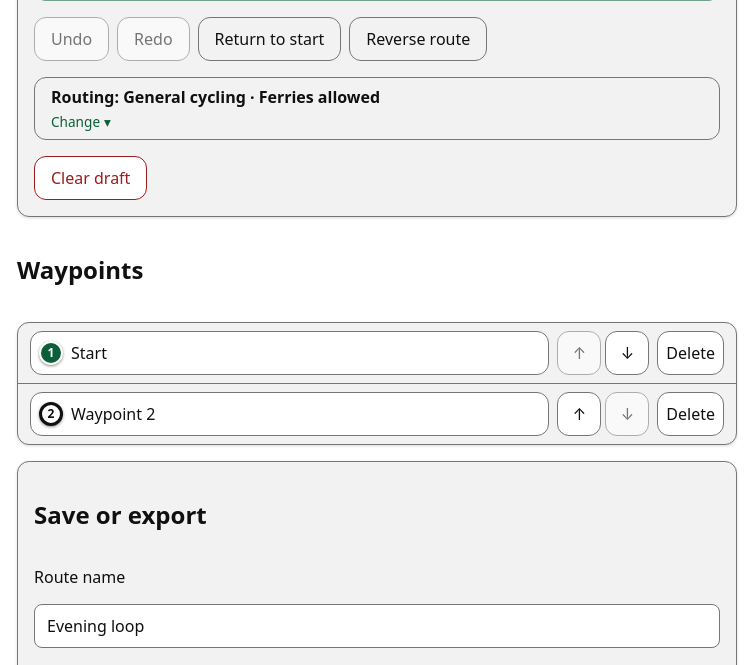
Test case: PlanningScreen Reverse route (backlog item 38) › clears an active waypoint selection and a pending Move/Insert-after relocation
(page scrolled)
Click the button "1 Start".
click(89, 353)  # box [30, 331, 549, 375]
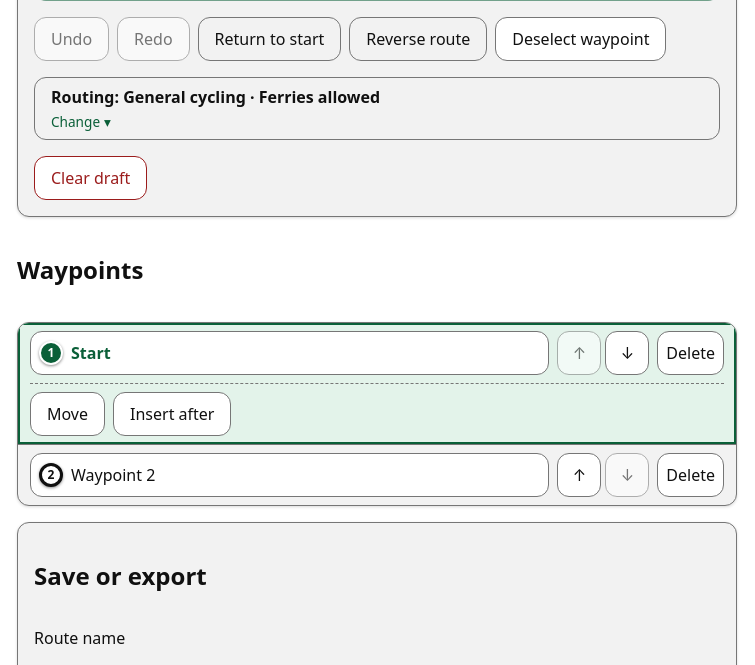
Click the button "Move".
click(68, 414)  # box [30, 392, 105, 436]
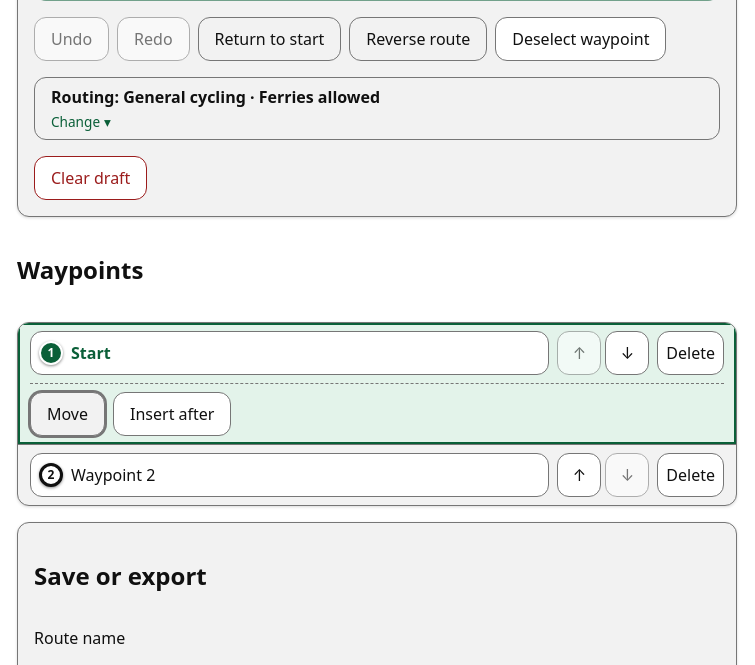
Click the button "Reverse route".
click(418, 39)  # box [349, 17, 487, 61]
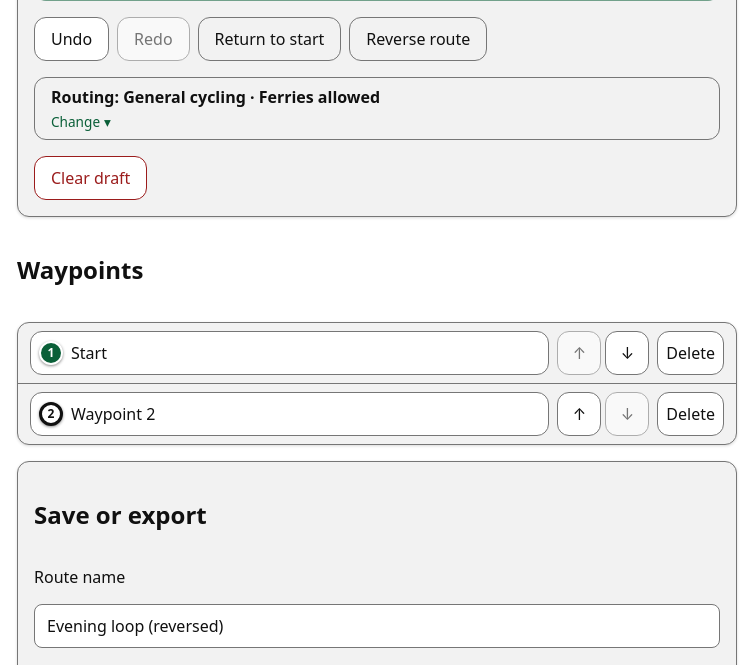
Result: the button "Move" is gone
Result: the button "Insert after" is gone
